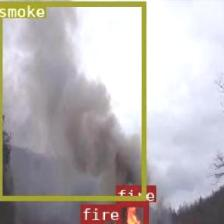fire: (116, 201, 148, 224), (80, 220, 102, 224)
smoke: (0, 0, 145, 200)
